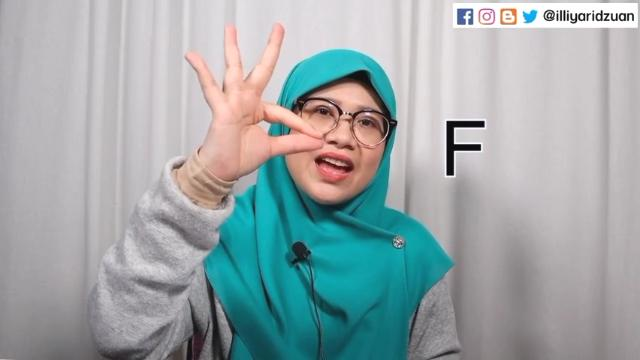F: (181, 22, 325, 176)
